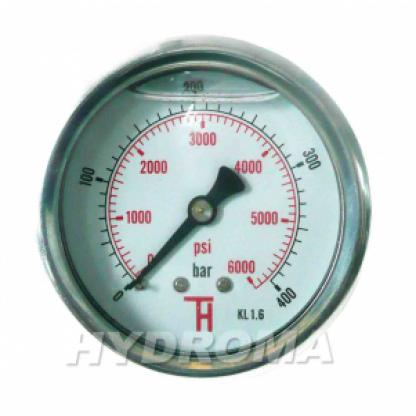needle: (125, 215, 198, 291)
